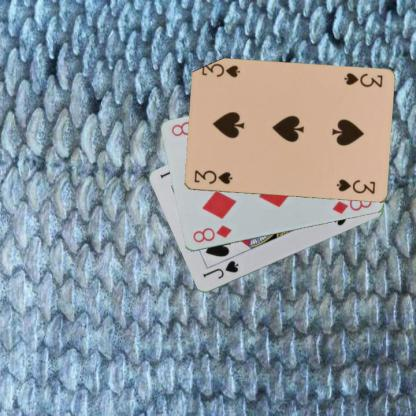3s: (341, 70, 384, 89), (192, 168, 234, 186)
8d: (190, 222, 233, 244)
Js: (200, 258, 240, 280)
